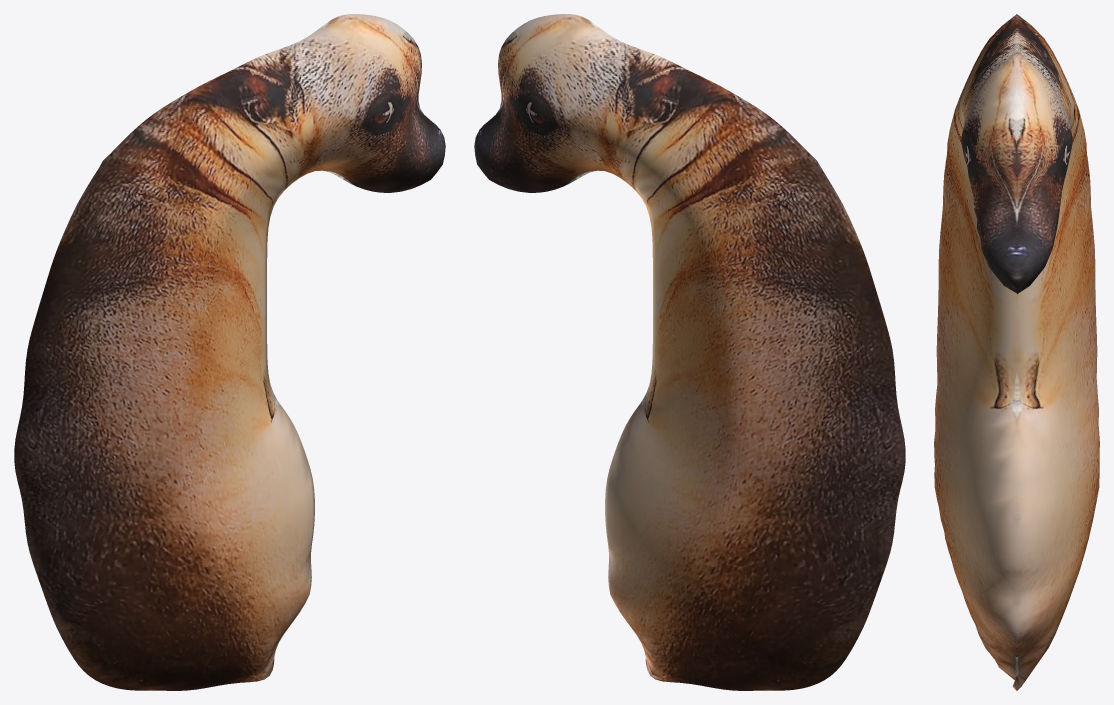
File: coixi_gos.glb
3 renders of one model, left to right at view 1: azimuth 30°, elevation 25°; view 2: azimuth 150°, elevation 25°; view 3: azimuth 270°, elevation 25°, orthographic. The views are drawn at different scales.
Parts seen in each view (by area): view 1: coixi_gos; view 2: coixi_gos; view 3: coixi_gos.
Part boxes in pixels (left/top/right/bottom): coixi_gos: left=14, top=14, right=445, bottom=690; coixi_gos: left=474, top=14, right=905, bottom=690; coixi_gos: left=934, top=14, right=1099, bottom=690.
Size of the model in its own units: 0.4196 by 0.6 by 0.1334.
Materials: 1 (1 with a texture image).
